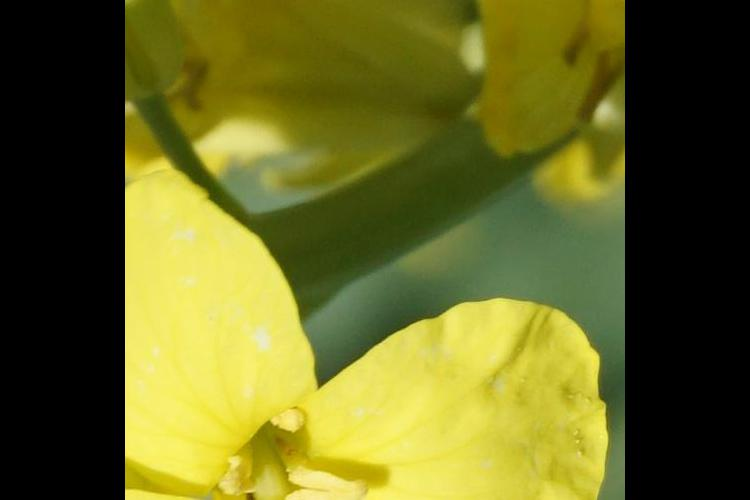yellow: (127, 183, 610, 500), (464, 1, 623, 189)
